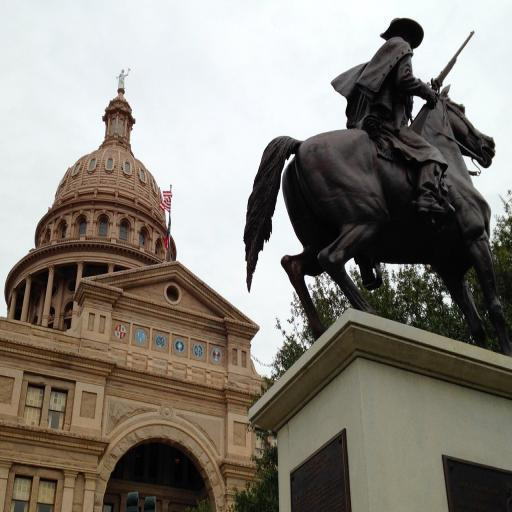horse: (242, 82, 512, 344)
